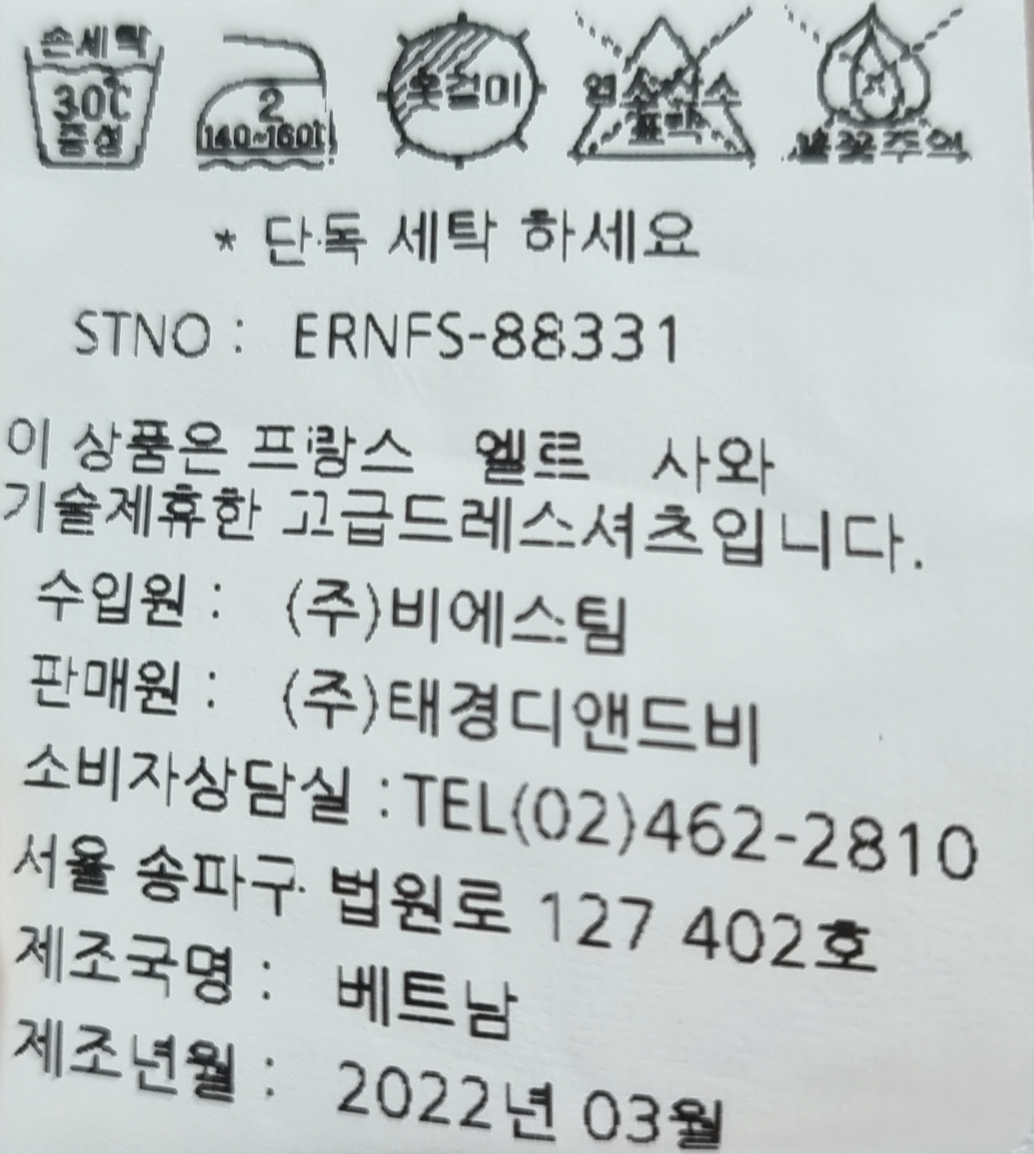KR_hand_wash_30_neutral: (5, 15, 179, 179)
KR_hang_dry_in_shade: (357, 0, 565, 163)
KR_iron_medium_temp_with_cloth: (187, 20, 346, 177)
KR_no_bleach: (569, 4, 770, 177)
